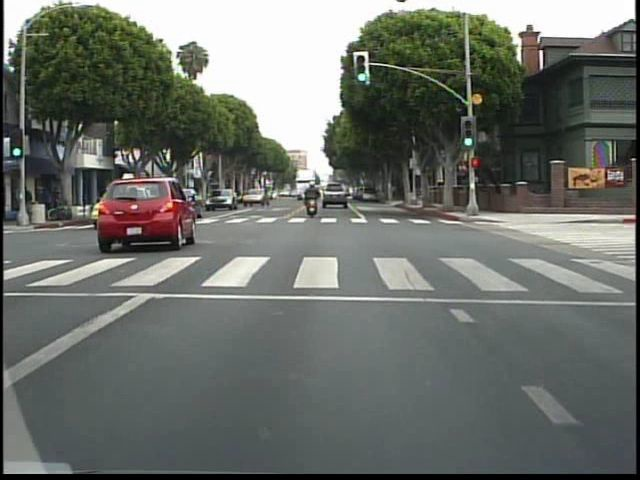person: (303, 178, 325, 223)
